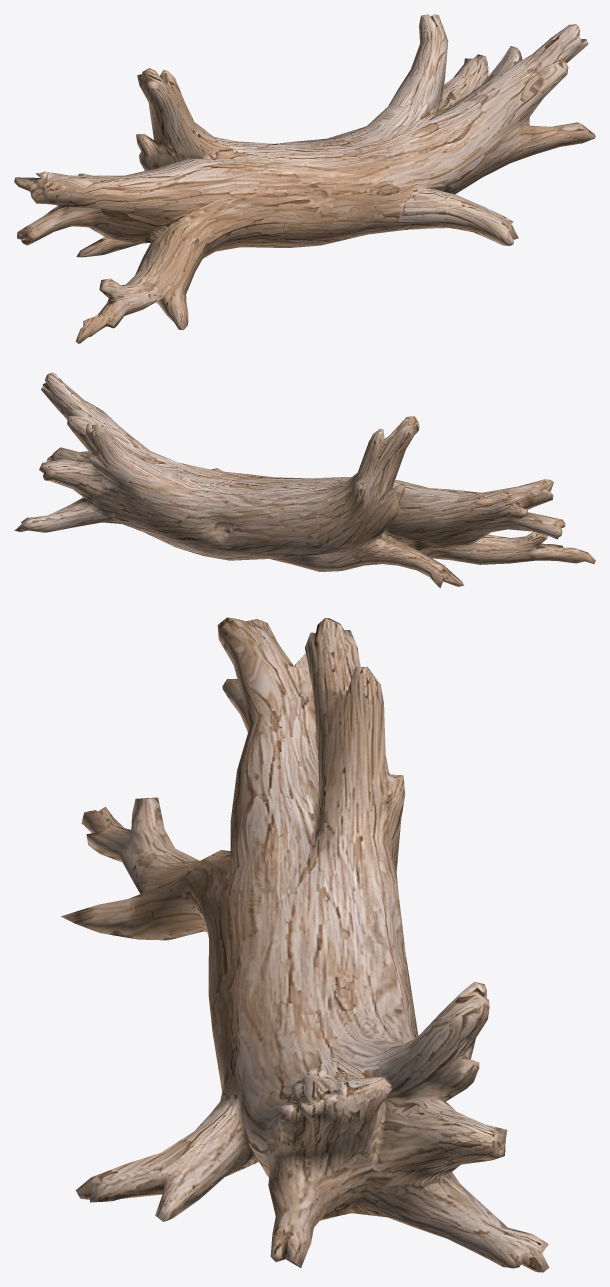
File: Furn_Driftwood.fbx
The picture shows the model from 3 angles, top to bottom: view 1: azimuth 30°, elevation 25°; view 2: azimuth 150°, elevation 25°; view 3: azimuth 270°, elevation 25°; orthographic projection. The views are drawn at different scales.
Parts seen in each view (by area): view 1: Furn_Driftwood; view 2: Furn_Driftwood; view 3: Furn_Driftwood.
Part boxes in pixels (x1,y1,x2,y2): Furn_Driftwood: (14, 14, 595, 343); Furn_Driftwood: (14, 372, 595, 588); Furn_Driftwood: (61, 617, 549, 1272).
Size of the model in its own units: 3 by 1.02 by 1.26.
1 material, 1 textured.
